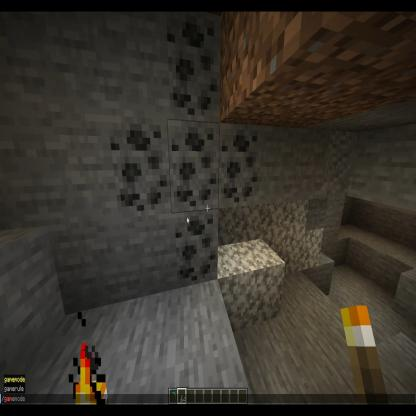coal ore: (165, 10, 224, 125), (110, 123, 174, 217), (166, 118, 222, 211), (175, 207, 218, 293), (219, 123, 260, 207)
